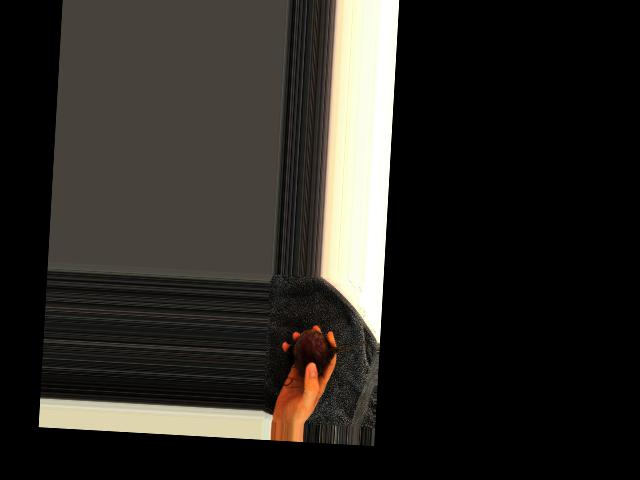beet: (287, 327, 367, 380)
